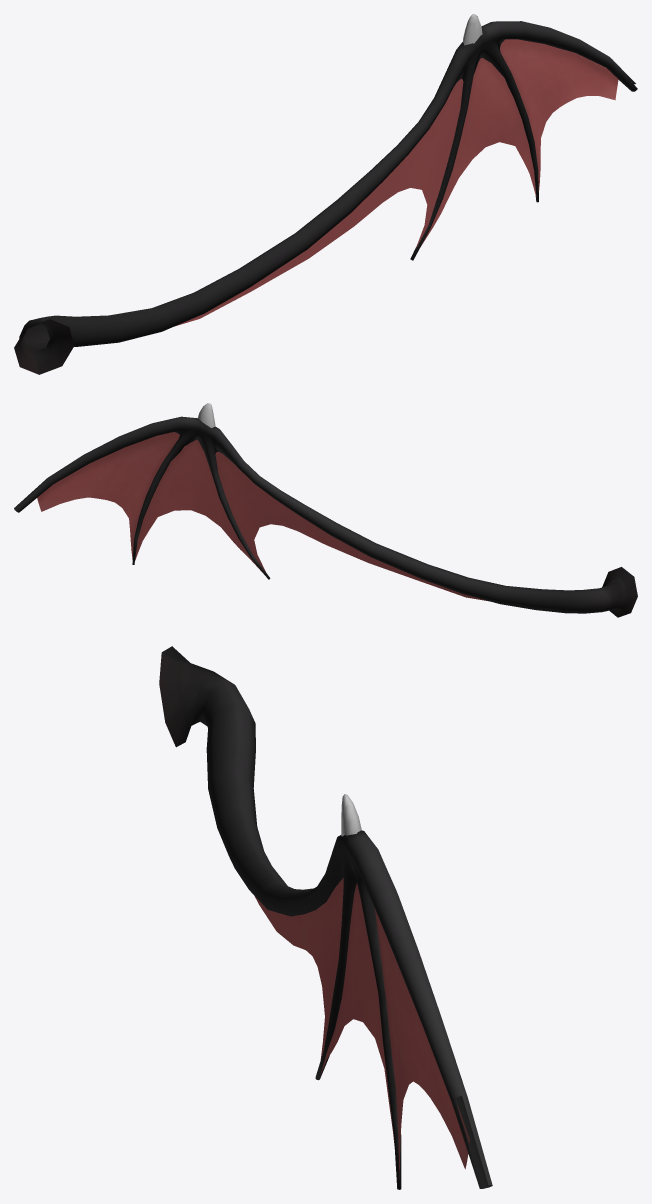
The model's file is wing_L.obj.
The picture shows the model from 3 angles, top to bottom: view 1: azimuth 30°, elevation 25°; view 2: azimuth 150°, elevation 25°; view 3: azimuth 270°, elevation 25°; orthographic projection. The views are drawn at different scales.
Visible parts, largest first — view 1: wing_L; view 2: wing_L; view 3: wing_L.
Boxes of the visible parts, box(x1,y1,x2,y2) form: wing_L: box(14, 14, 637, 374); wing_L: box(14, 403, 637, 617); wing_L: box(159, 646, 492, 1189).
Size of the model in its own units: 0.416 by 0.1223 by 0.1097.
Materials: 1 (1 with a texture image).
